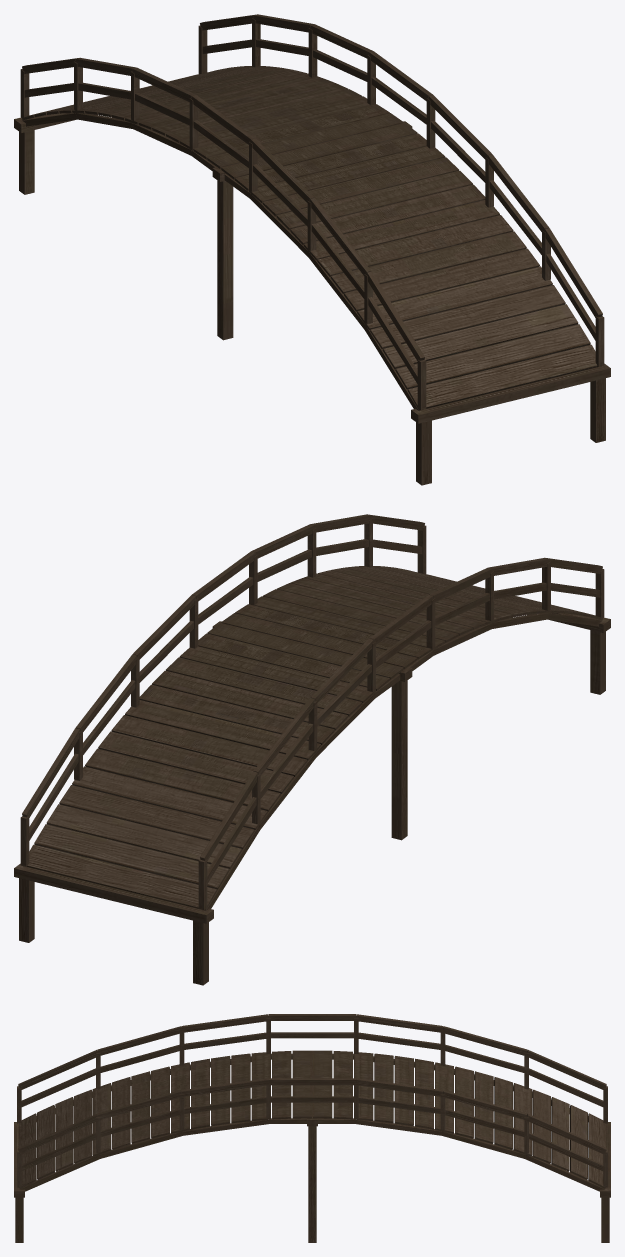
The model's file is Bridge4.glb.
3 views of the same model, one above another, from view 1: azimuth 30°, elevation 25°; view 2: azimuth 150°, elevation 25°; view 3: azimuth 270°, elevation 25° (orthographic). The views are drawn at different scales.
Parts seen in each view (by area): view 1: mesh_node; view 2: mesh_node; view 3: mesh_node.
Boxes of the visible parts, x1,y1,x2,y2 form: mesh_node: [14, 14, 610, 485]; mesh_node: [14, 514, 610, 985]; mesh_node: [14, 1014, 610, 1242].
Bounding box in the file's own units: 2.75 × 3.01 × 10.
Materials: 1 (1 with a texture image).
